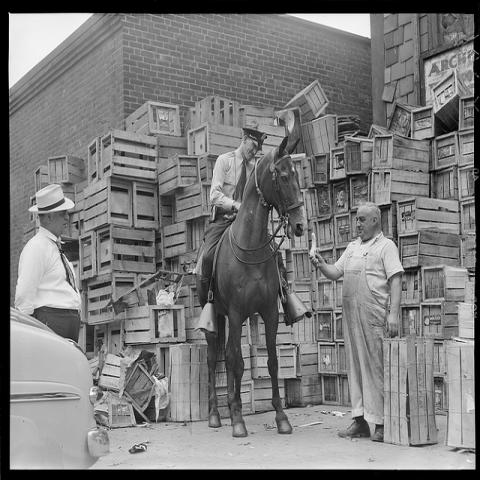car: (7, 308, 107, 470)
